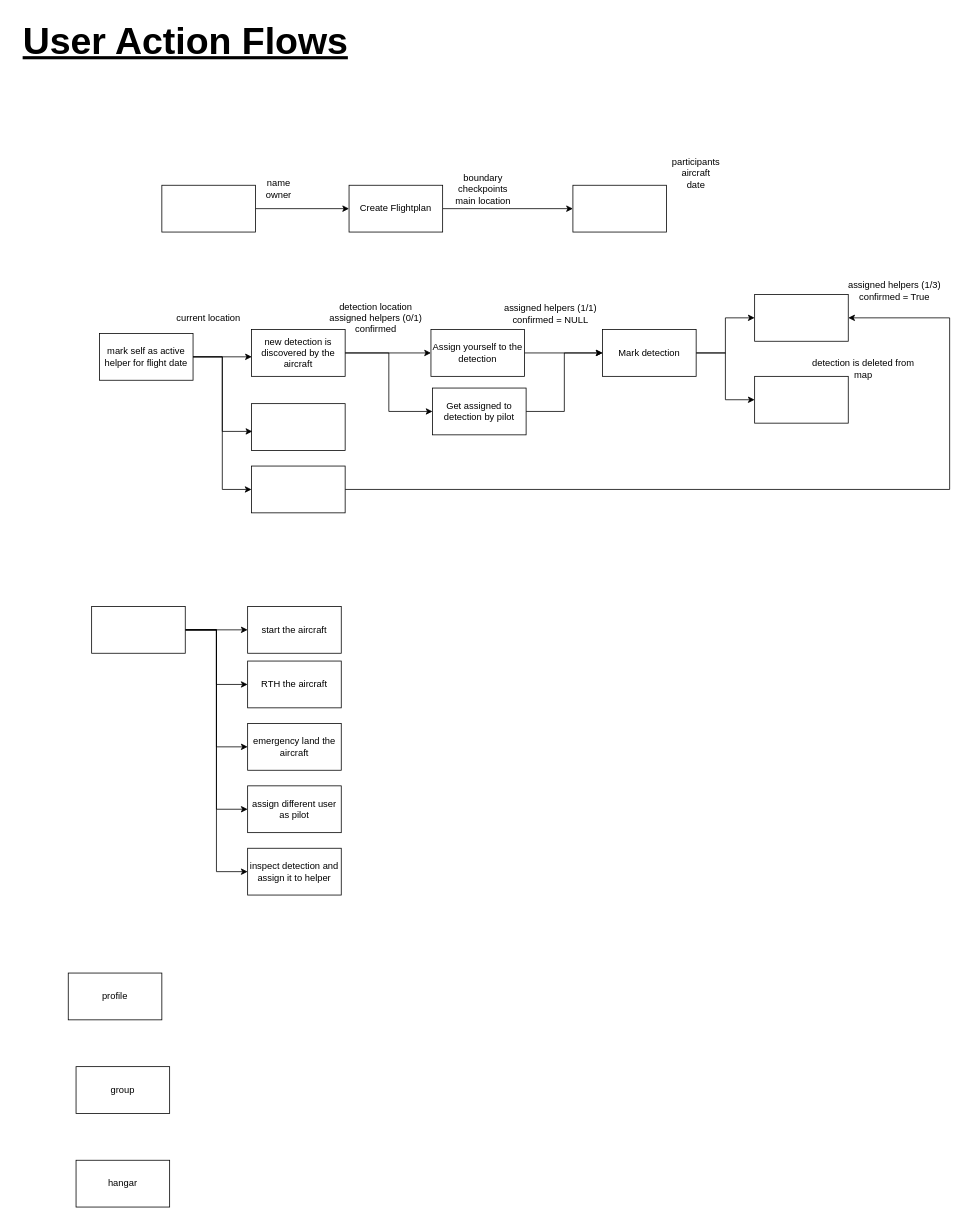
Image size: 970x1221. Some labels were removed from this diagram. Each missing label, with the centre of its shape:
"Confirmed" belongs at pixel 801 317.
"Create Flight Date" belongs at pixel 619 208.
"Create mission" belongs at pixel 208 208.
"False positive" belongs at pixel 801 399.
"manually add detection" belongs at pixel 298 489.
"mark self as active pilot for flight date" belongs at pixel 138 629.
"mark self as inactive for flightdate" belongs at pixel 298 426.
